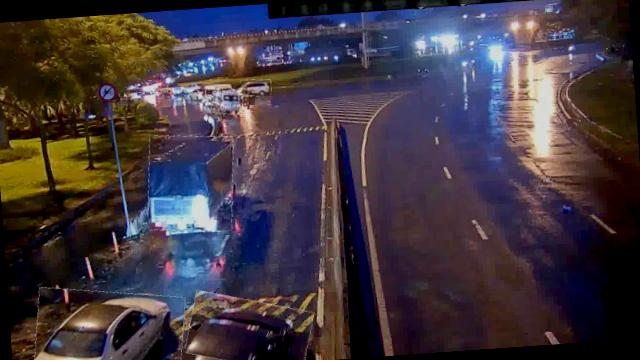Bus: (211, 90, 244, 115)
Car: (30, 282, 187, 360), (182, 289, 313, 360), (240, 78, 272, 97)
Truck: (143, 132, 237, 234)
